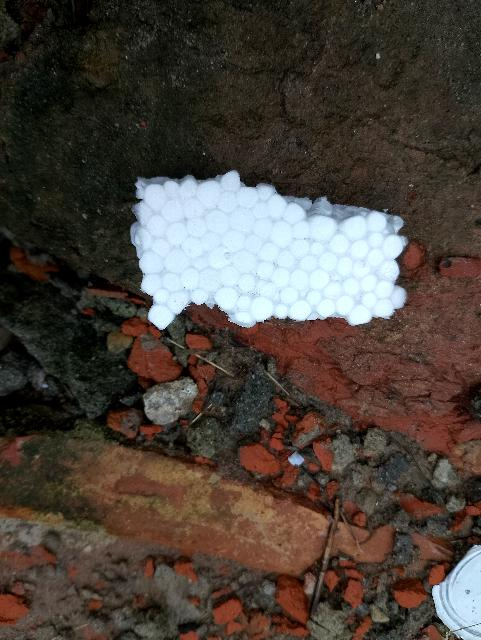cocksheet: (133, 179, 401, 328)
